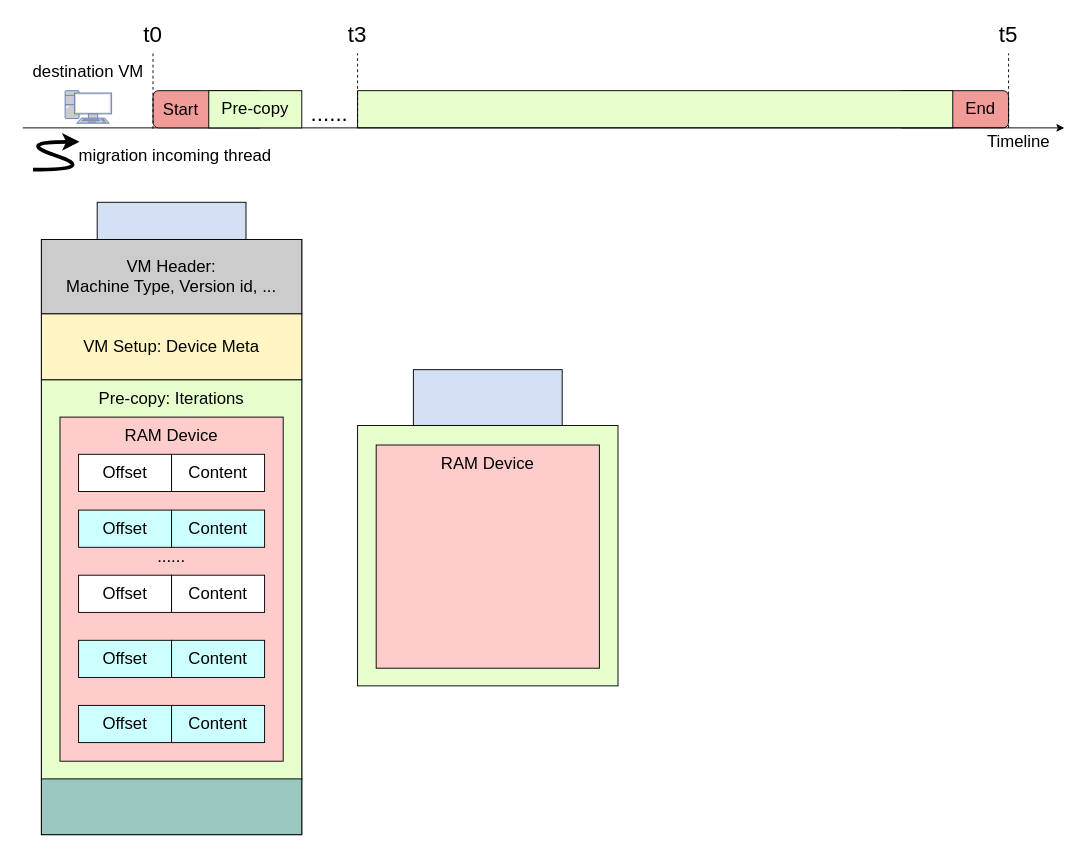
Image size: 1088x851. Some labels were removed from this diagram. Here are the shapes that lost their labels. From the top down, the centre of each, then its label:
(x=655, y=109): Post-copy
(x=171, y=220): Backup Image
(x=487, y=397): incremental checkpoint
(x=171, y=806): VM State: Cpu states
